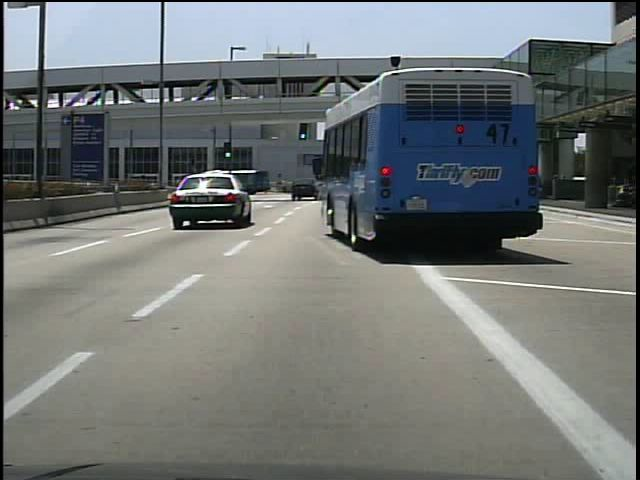person: (279, 177, 292, 196)
